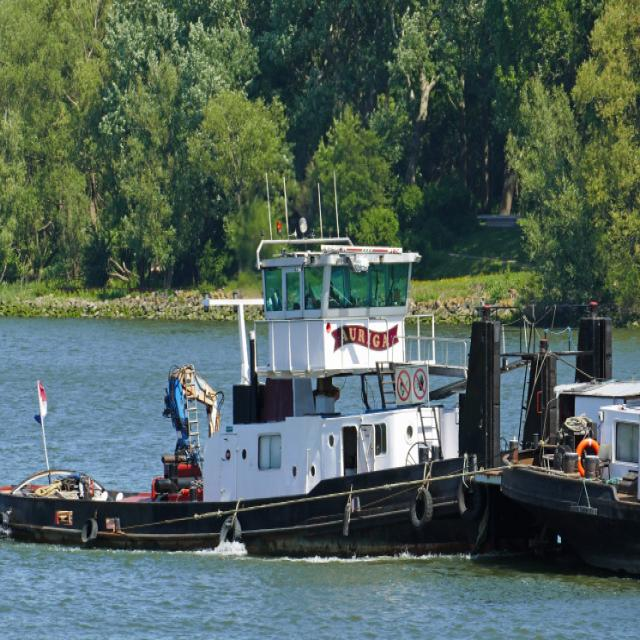tugboat: (1, 224, 618, 570)
